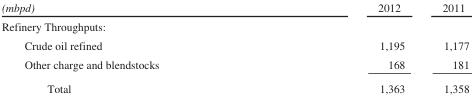table: (0, 0, 468, 94)
table column: (0, 0, 267, 94), (267, 0, 422, 94), (422, 0, 468, 94)
table column header: (0, 0, 468, 16)
table projected row header: (0, 16, 468, 35)
table row: (0, 54, 468, 76), (0, 16, 468, 35), (0, 35, 468, 54), (0, 76, 468, 94), (0, 0, 468, 16)
